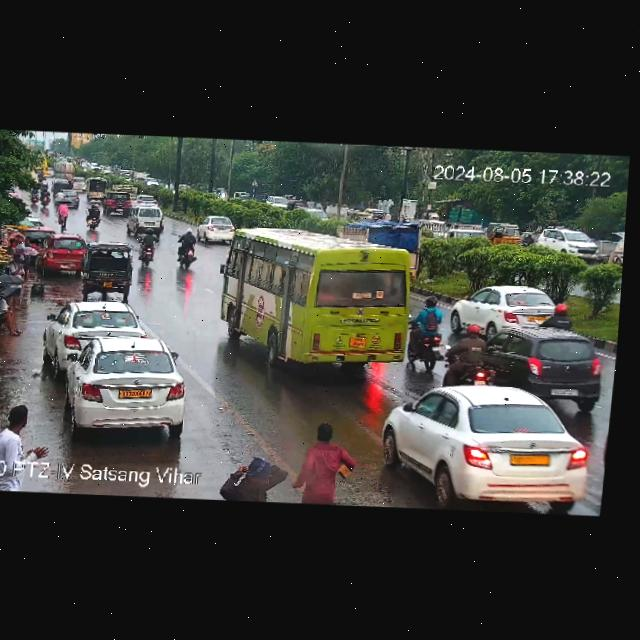bus: (207, 222, 424, 376)
car: (387, 379, 593, 507), (59, 334, 193, 433), (468, 326, 610, 410), (44, 299, 141, 363), (450, 283, 564, 333), (79, 241, 138, 299), (535, 225, 601, 256), (39, 236, 87, 274), (124, 206, 167, 239), (194, 212, 238, 244), (484, 222, 522, 246), (101, 192, 132, 217), (85, 178, 111, 201), (53, 189, 83, 207), (348, 207, 392, 219), (130, 195, 162, 207), (52, 179, 73, 195)
motorcycle: (439, 322, 500, 389), (398, 297, 444, 371), (173, 227, 203, 270), (138, 229, 162, 265), (84, 202, 105, 230), (38, 186, 51, 213), (55, 202, 72, 222)
person: (298, 427, 343, 504), (0, 400, 53, 462), (222, 456, 290, 502), (4, 245, 35, 315), (0, 277, 31, 338), (543, 492, 602, 515)
truck: (341, 220, 439, 264)
